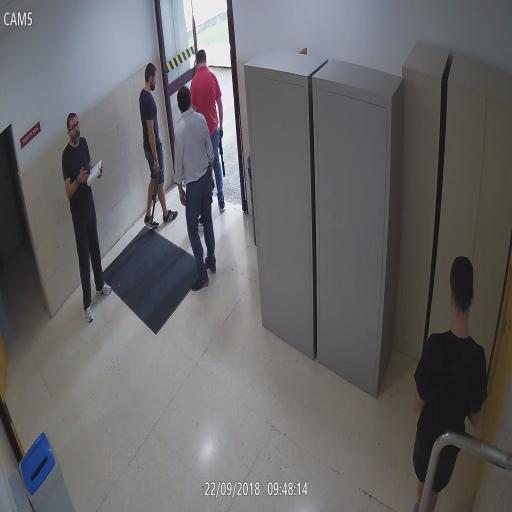Handgun: (208, 174, 215, 202)
